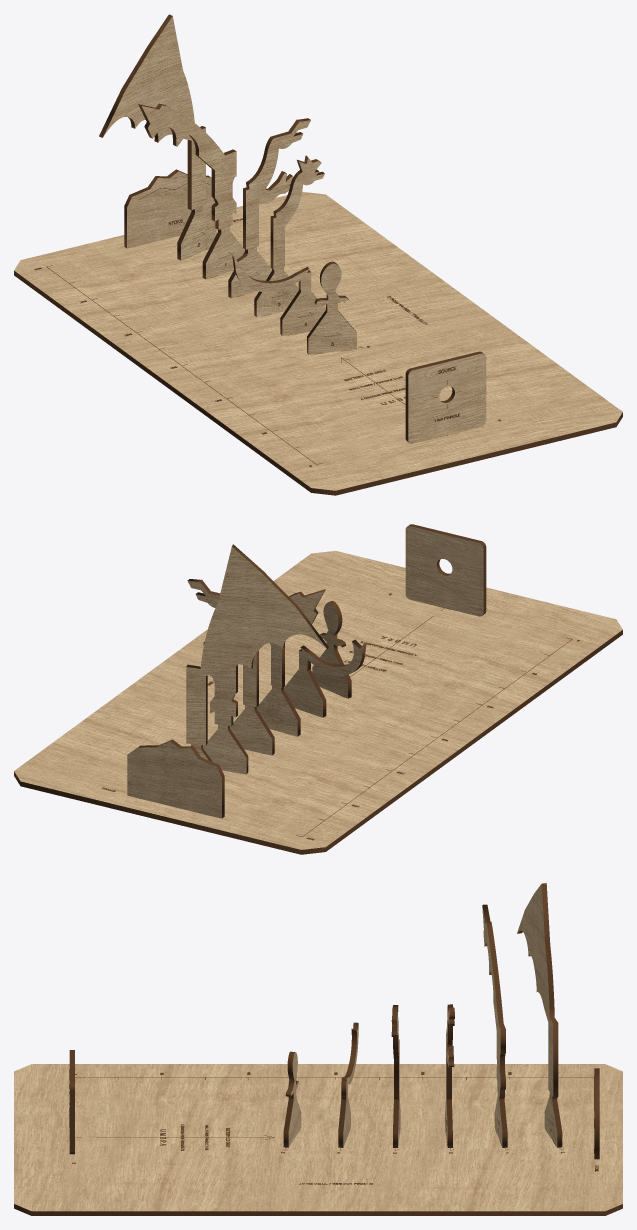
Rendered from umbra.glb.
The picture shows the model from 3 angles, top to bottom: view 1: azimuth 30°, elevation 25°; view 2: azimuth 150°, elevation 25°; view 3: azimuth 270°, elevation 25°; orthographic projection. The views are drawn at different scales.
Parts seen in each view (by area): view 1: body6, body1, body8, body0, body7, body5, body2, body3, body4, score6; view 2: body6, body1, body8, body7, body0, body5, body3, body2, body4, score6; view 3: body6, body1, body0, score6, body4, body3, body5, body2, body8, body7.
Boxes of the visible parts, x1,y1,x2,y2 form: body6: (14, 191, 622, 495); body1: (99, 14, 216, 260); body8: (405, 351, 486, 443); body0: (138, 103, 244, 279); body7: (124, 169, 215, 248); body5: (228, 118, 310, 298); body2: (254, 155, 324, 317); body3: (232, 253, 325, 335); body4: (307, 261, 356, 354); score6: (34, 218, 501, 466); body6: (14, 550, 622, 854); body1: (186, 544, 328, 761); body8: (405, 524, 486, 616); body7: (127, 739, 224, 818); body0: (203, 589, 325, 774); body5: (187, 579, 274, 755); body3: (284, 639, 366, 717); body2: (257, 643, 300, 736); body4: (312, 601, 351, 698); score6: (101, 593, 579, 840); body6: (14, 1064, 622, 1215); body1: (517, 883, 562, 1147); body0: (482, 904, 507, 1147); score6: (68, 1071, 598, 1184); body4: (283, 1051, 301, 1147); body3: (338, 1022, 358, 1147); body5: (445, 1004, 454, 1147); body2: (391, 1005, 400, 1147); body8: (69, 1050, 74, 1154); body7: (594, 1068, 599, 1159).
Bounding box in the file's own units: 0.2 × 0.1551 × 0.35.
3 materials, 1 textured.
